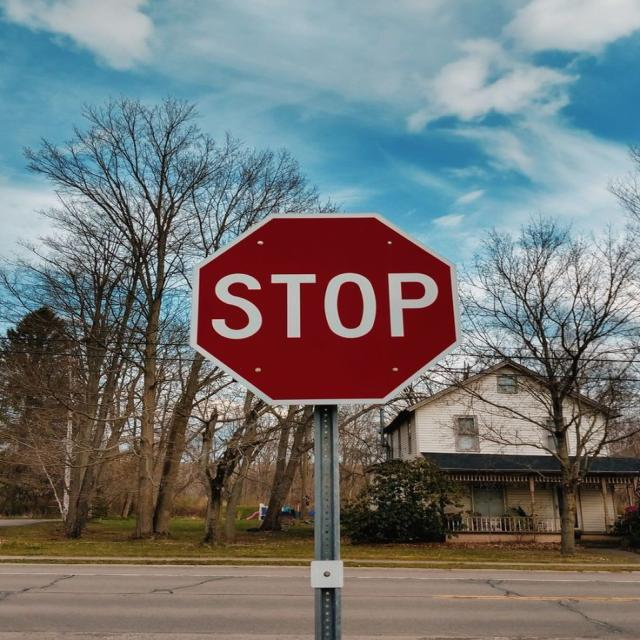stop: (188, 212, 459, 406)
